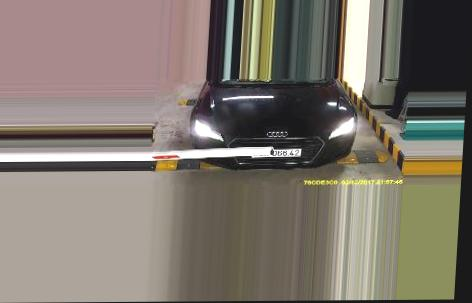License_Plate: (248, 147, 302, 159)
